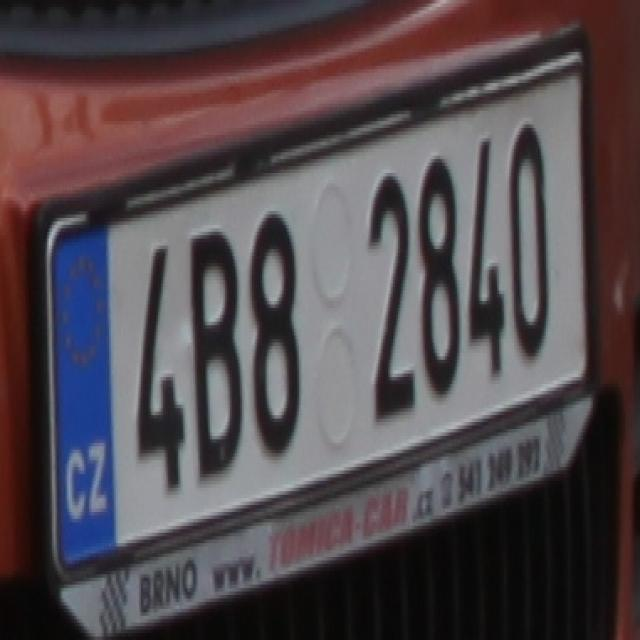0: (507, 100, 551, 367)
2: (366, 159, 413, 422)
4: (129, 232, 185, 498), (468, 128, 506, 387)
8: (248, 197, 300, 460), (417, 142, 462, 415)
B: (190, 214, 243, 481)
